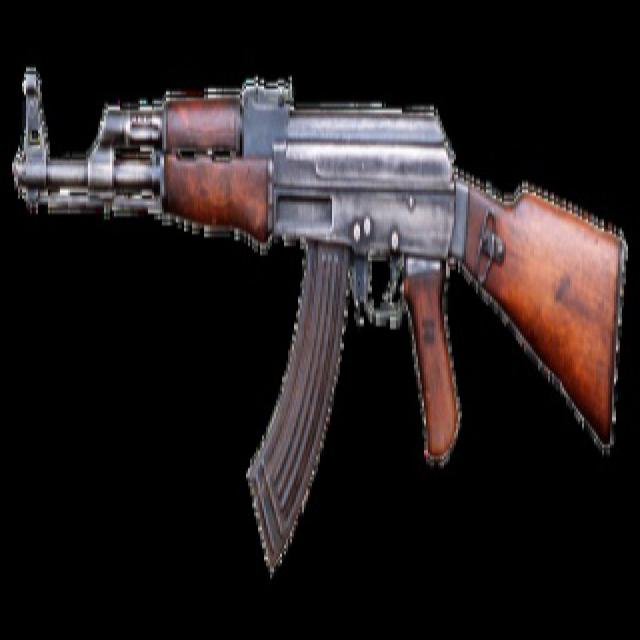long weapon: (8, 58, 620, 573)
